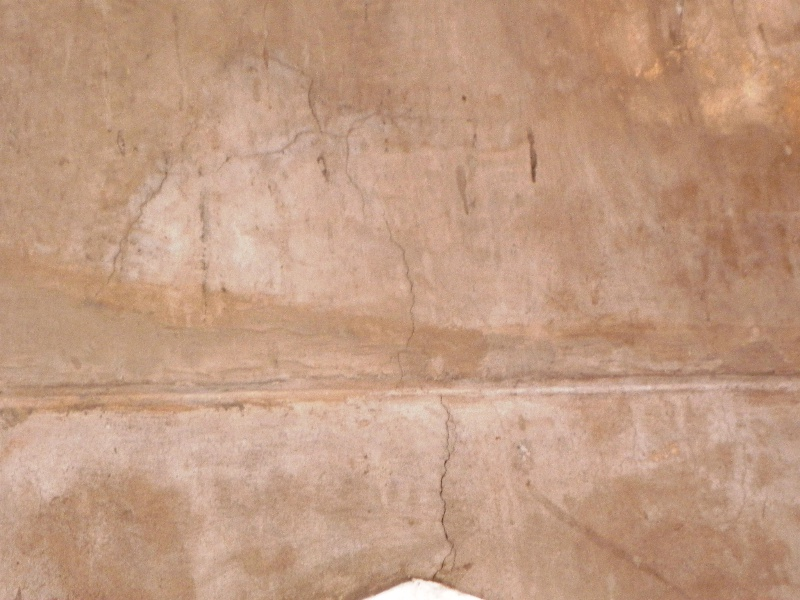Crack: (421, 395, 460, 580)
